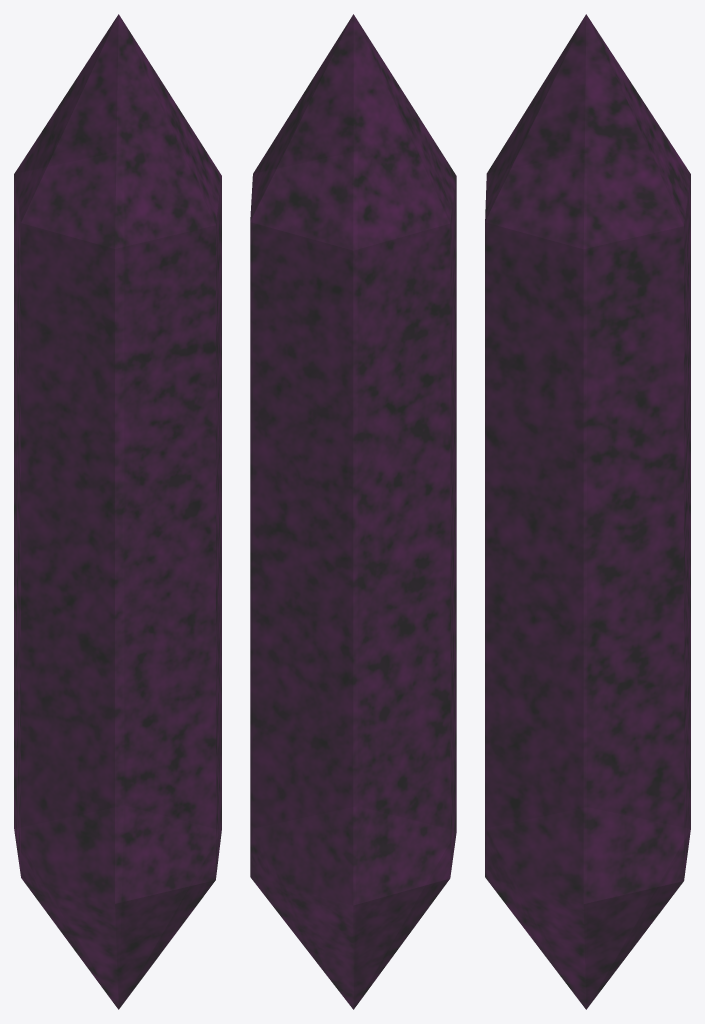
Rendered from cryst.fbx.
The picture shows the model from 3 angles, left to right: view 1: azimuth 30°, elevation 25°; view 2: azimuth 150°, elevation 25°; view 3: azimuth 270°, elevation 25°; orthographic projection.
Visible parts, largest first — view 1: Plane; view 2: Plane; view 3: Plane.
Boxes of the visible parts, x1,y1,x2,y2 form: Plane: (14, 14, 221, 1009); Plane: (250, 14, 456, 1009); Plane: (485, 14, 690, 1009).
Size of the model in its own units: 229 by 1093 by 205.
